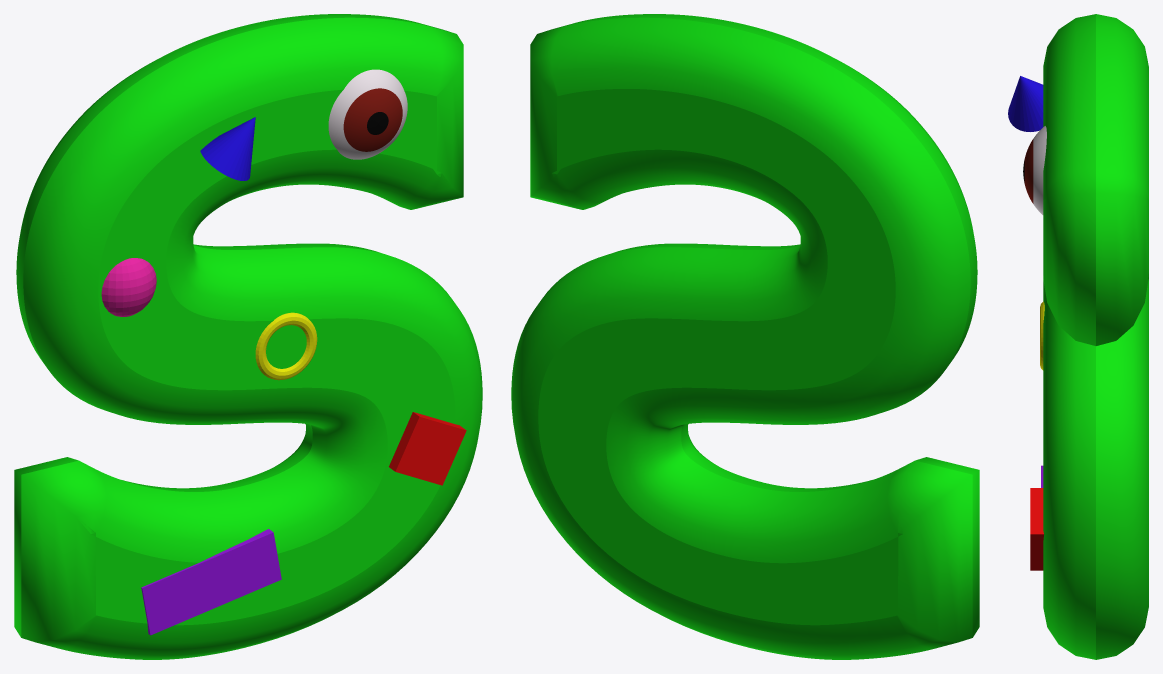
The model's file is s_green.fbx.
The picture shows the model from 3 angles, left to right: view 1: azimuth 30°, elevation 25°; view 2: azimuth 150°, elevation 25°; view 3: azimuth 270°, elevation 25°; orthographic projection. The views are drawn at different scales.
Visible parts, largest first — view 1: Text, Cube.001, Sphere, Cube, Sphere.001, Cone, Torus; view 2: Text; view 3: Text, Cone, Sphere, Cube, Torus.
Boxes of the visible parts, x1,y1,x2,y2 form: Text: (14, 14, 482, 659); Cube.001: (141, 529, 281, 635); Sphere: (328, 69, 407, 159); Cube: (389, 412, 466, 485); Sphere.001: (101, 258, 156, 316); Cone: (200, 117, 255, 180); Torus: (255, 312, 317, 380); Text: (511, 14, 979, 659); Text: (1043, 14, 1148, 659); Cone: (1008, 76, 1043, 131); Sphere: (1023, 126, 1046, 214); Cube: (1030, 488, 1043, 570); Torus: (1040, 301, 1044, 370).
Bounding box in the file's own units: 94.48 × 121 × 26.31.
